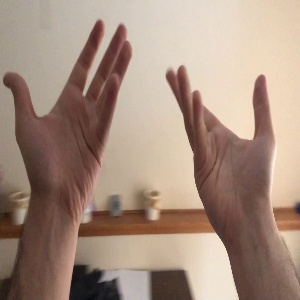hand: (3, 19, 133, 197), (166, 66, 273, 218)
